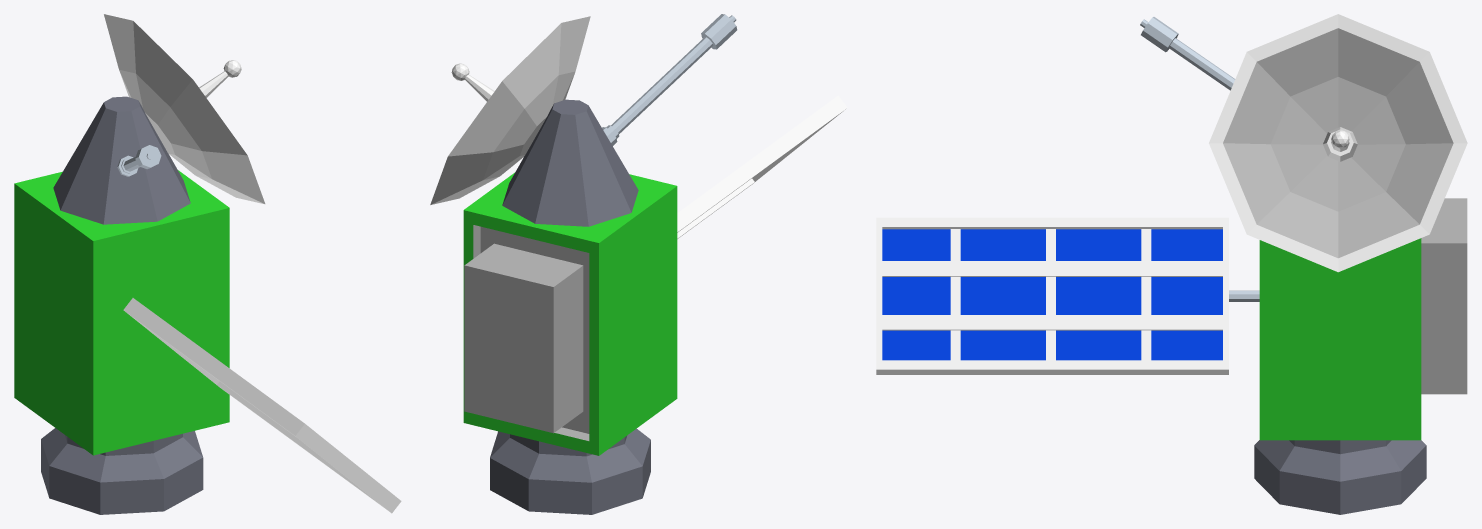
File: Satellite8.glb
The picture shows the model from 3 angles, left to right: view 1: azimuth 30°, elevation 25°; view 2: azimuth 150°, elevation 25°; view 3: azimuth 270°, elevation 25°; orthographic projection. The views are drawn at different scales.
Visible parts, largest first — view 1: Satellite8-main, Satellite8-head, Satellite8-Panel, Satellite8-antenna; view 2: Satellite8-main, Satellite8-head, Satellite8-Panel, Satellite8-antenna; view 3: Satellite8-Panel, Satellite8-main, Satellite8-head, Satellite8-antenna.
Boxes of the visible parts, left/top/right/bottom form: Satellite8-main: left=14, top=96, right=229, bottom=514; Satellite8-head: left=104, top=14, right=265, bottom=204; Satellite8-Panel: left=123, top=298, right=401, bottom=513; Satellite8-antenna: left=117, top=145, right=161, bottom=176; Satellite8-main: left=463, top=99, right=677, bottom=514; Satellite8-head: left=430, top=16, right=590, bottom=204; Satellite8-Panel: left=677, top=95, right=847, bottom=238; Satellite8-antenna: left=602, top=14, right=737, bottom=145; Satellite8-Panel: left=876, top=217, right=1259, bottom=374; Satellite8-main: left=1254, top=198, right=1467, bottom=514; Satellite8-head: left=1209, top=14, right=1467, bottom=272; Satellite8-antenna: left=1140, top=17, right=1235, bottom=90.
Bounding box in the file's own units: 2.84 × 6.41 × 7.32.
